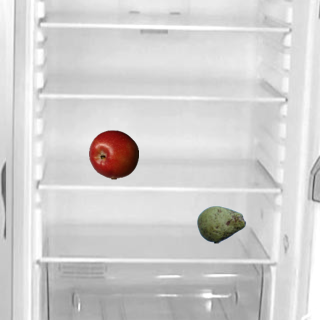Apple Braeburn: (88, 129, 138, 179)
Pear Stone: (196, 199, 246, 249)
